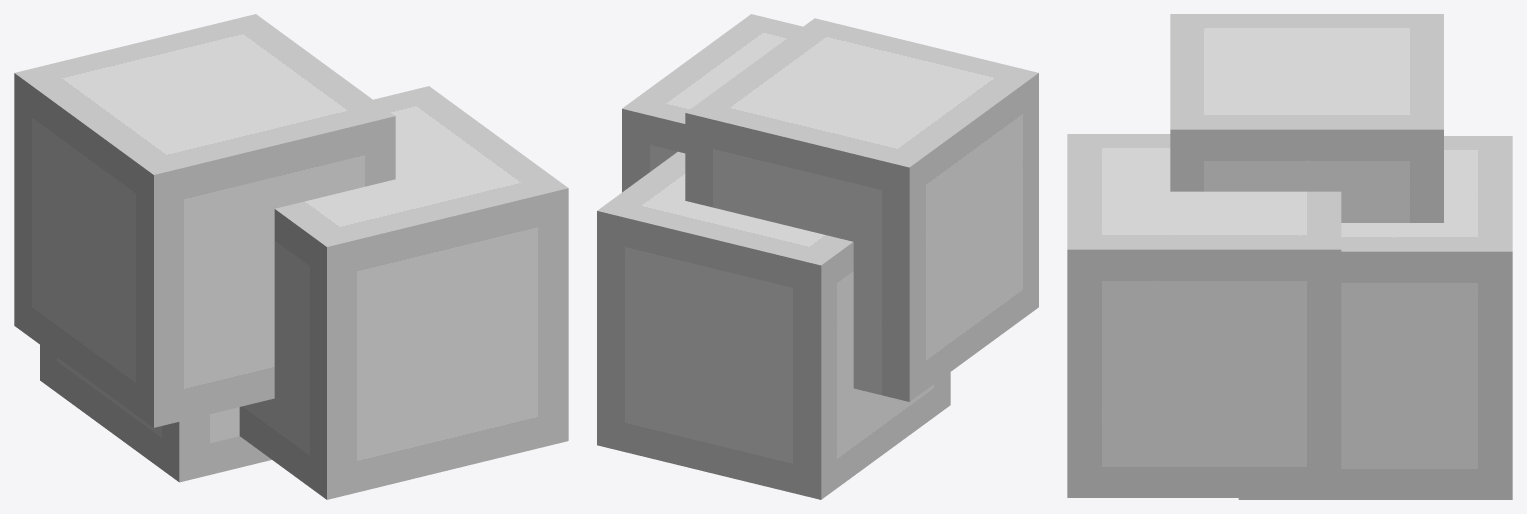
The model's file is Puff.fbx.
3 renders of one model, left to right at view 1: azimuth 30°, elevation 25°; view 2: azimuth 150°, elevation 25°; view 3: azimuth 270°, elevation 25°, orthographic. The views are drawn at different scales.
Visible parts, largest first — view 1: Puffs; view 2: Puffs; view 3: Puffs.
Boxes of the visible parts, box(x1,y1,x2,y2) form: Puffs: box(14, 14, 568, 499); Puffs: box(597, 14, 1038, 499); Puffs: box(1067, 14, 1512, 499).
Size of the model in its own units: 12 by 11 by 13.
1 material, 1 textured.
